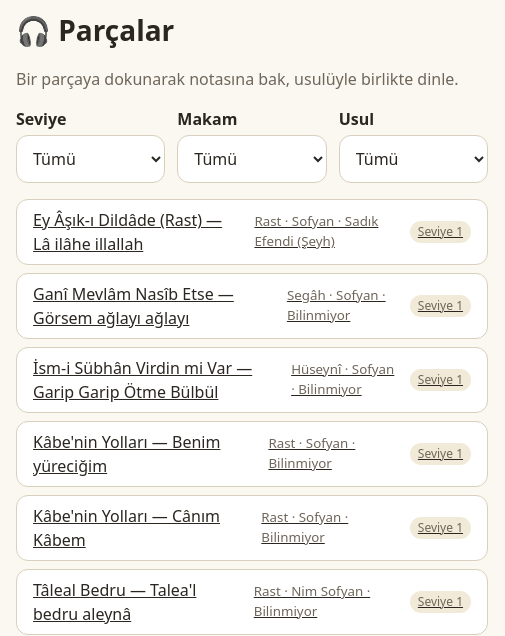
Test case: ParcalarSection › makam ve usul filtreleri süzer, seviyeyle birlikte çalışır; sonuç boşsa ileti çıkar
Select "Uşşak" in the dropdown labelled "Makam" at (252, 159), box [177,135,327,183]
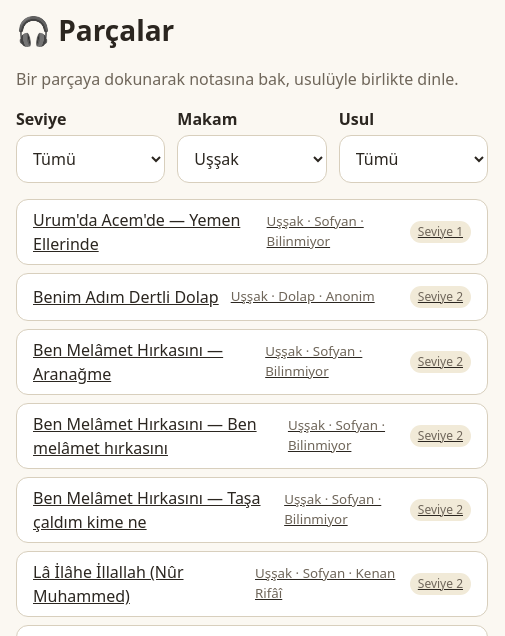
Select "Sofyan" in the dropdown labelled "Usul" at (413, 159), box [339,135,488,183]
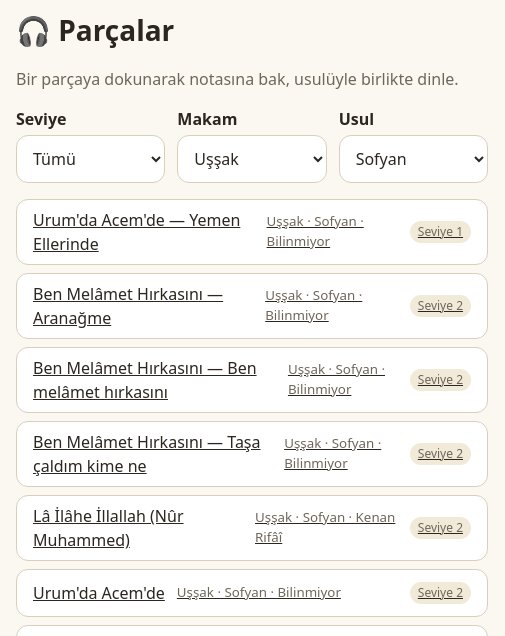
Select "3" in the dropdown labelled "Seviye" at (91, 159), box [16,135,165,183]
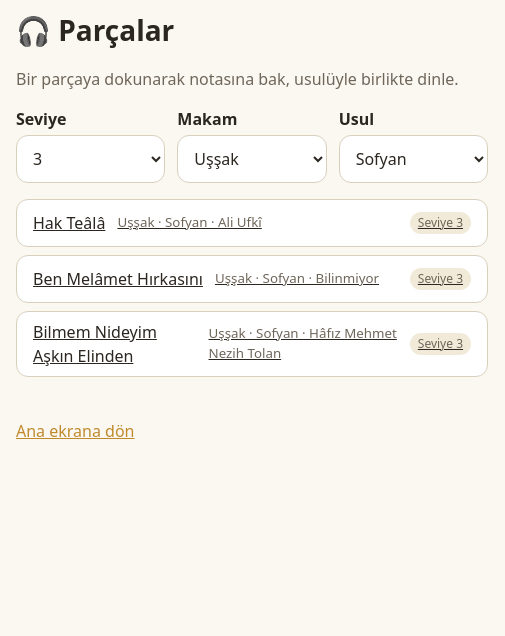
Expected: the text "Bu seçime uyan parça yok." is not shown
Select "4" in the dropdown labelled "Seviye" at (91, 159), box [16,135,165,183]
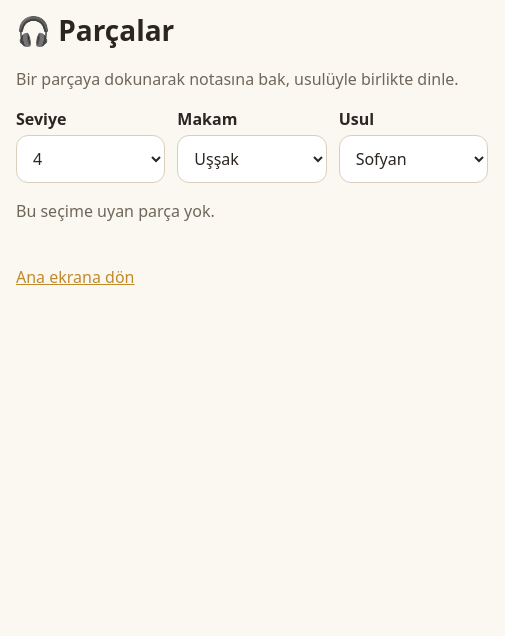
Now the text "Bu seçime uyan parça yok." is shown, box [16,200,215,222]
